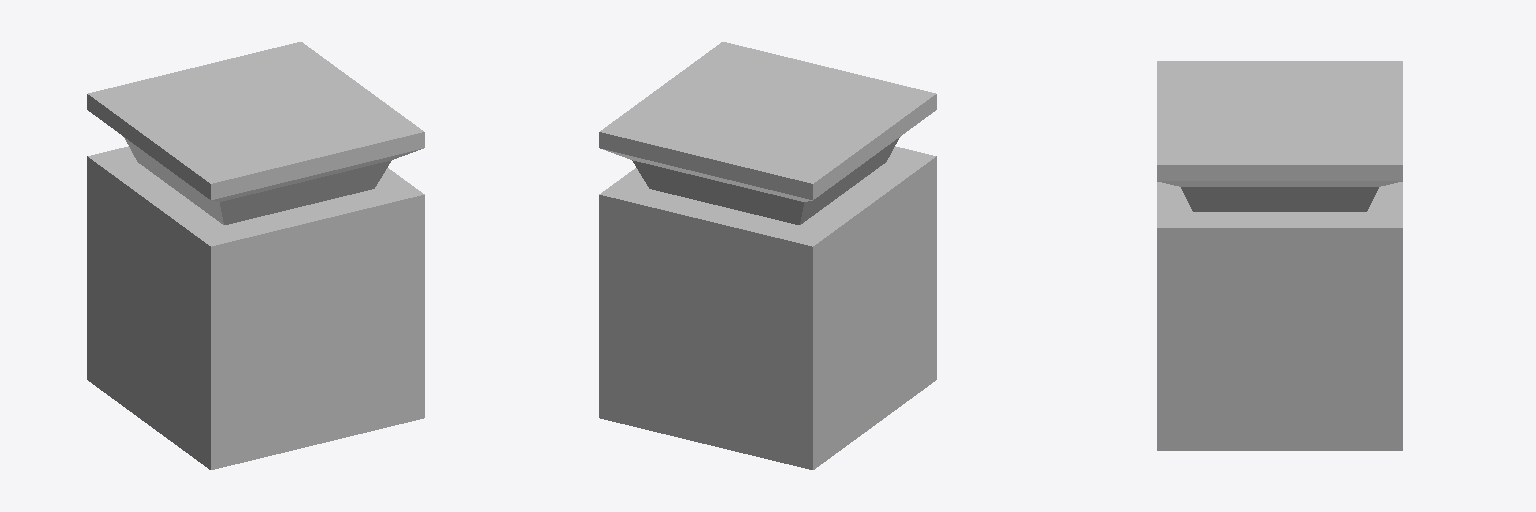
Rendered from AnimatedBox_000184.obj.
3 renders of one model, left to right at view 1: azimuth 30°, elevation 25°; view 2: azimuth 150°, elevation 25°; view 3: azimuth 270°, elevation 25°, orthographic.
Parts seen in each view (by area): view 1: Cube, Cube.001; view 2: Cube, Cube.001; view 3: Cube, Cube.001.
Boxes of the visible parts, x1,y1,x2,y2 form: Cube: [87, 146, 424, 469]; Cube.001: [87, 42, 424, 224]; Cube: [599, 146, 936, 469]; Cube.001: [599, 42, 936, 224]; Cube: [1157, 182, 1402, 450]; Cube.001: [1157, 61, 1402, 211].
Size of the model in its own units: 2 by 2.56 by 2.